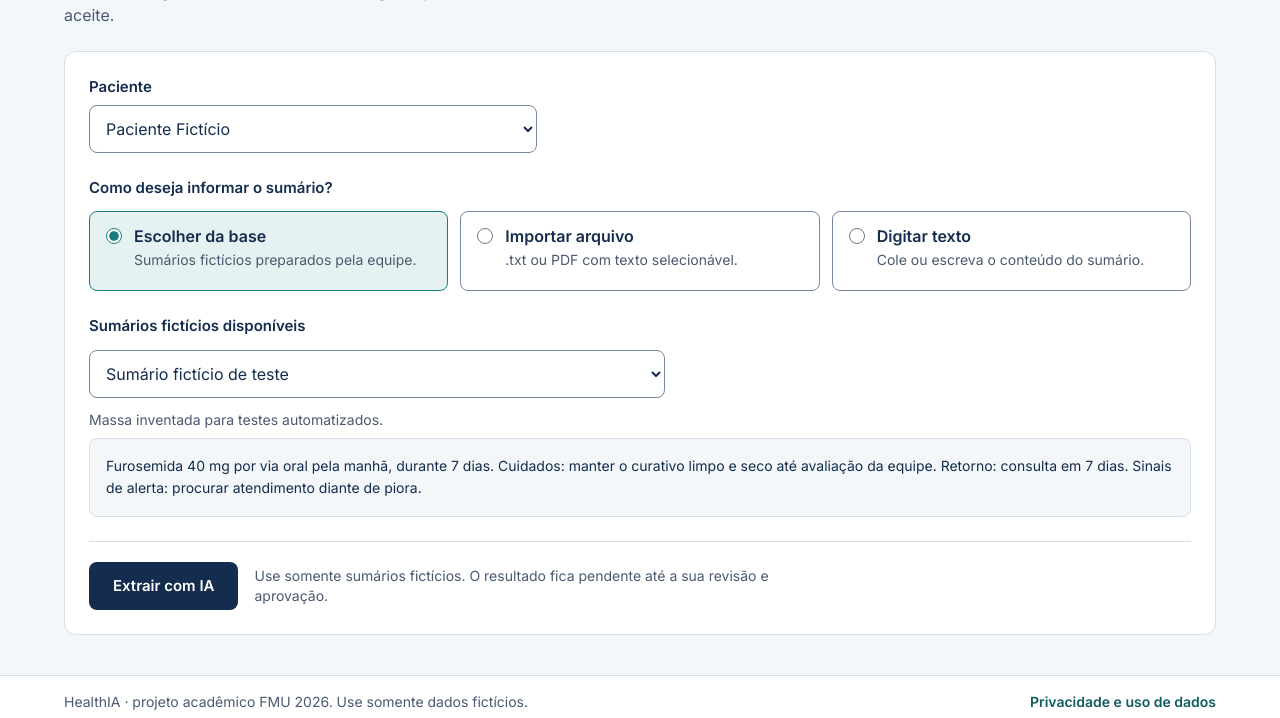
Scenario: Entrada do Alta Assistida › envia da base ao back-end e abre a etapa de sugestões da IA
(page scrolled)
Click the button "Extrair com IA" at (164, 586), box [89, 562, 238, 610]
(page scrolled)
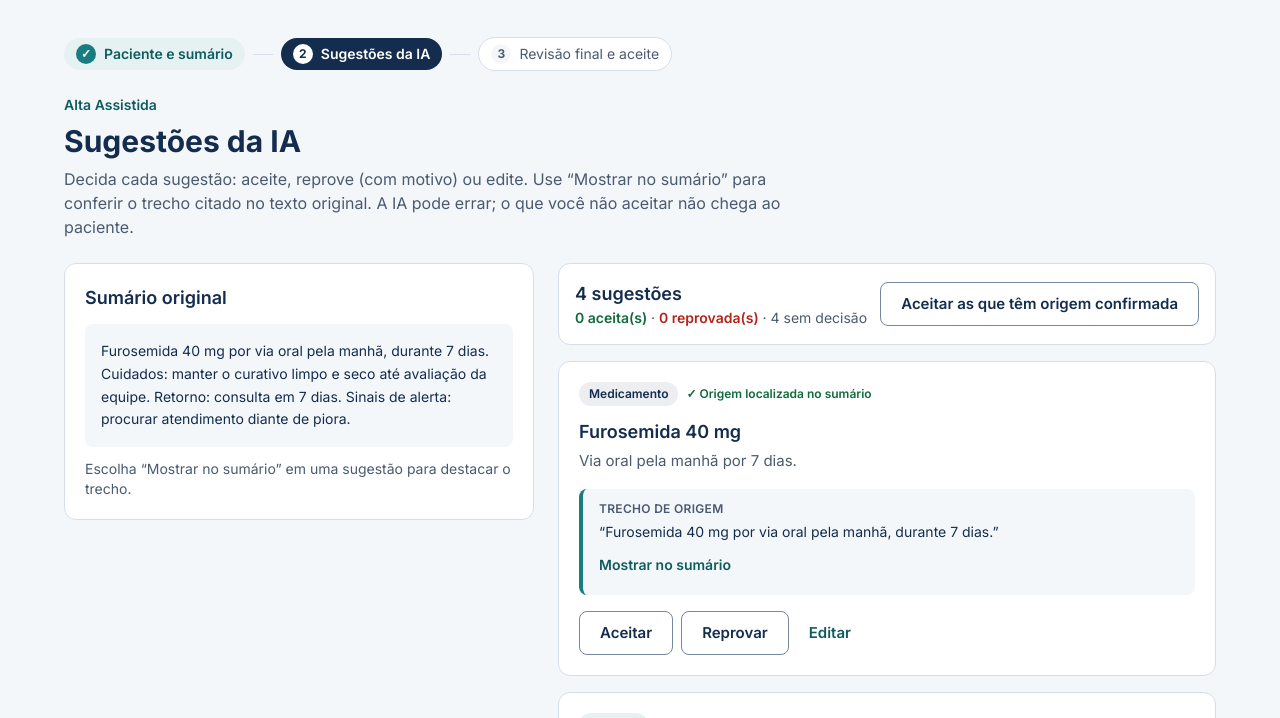
Now the heading "Sugestões da IA" is shown, box [64, 123, 301, 159]
Now the heading "Furosemida 40 mg" is shown, box [579, 421, 741, 442]
